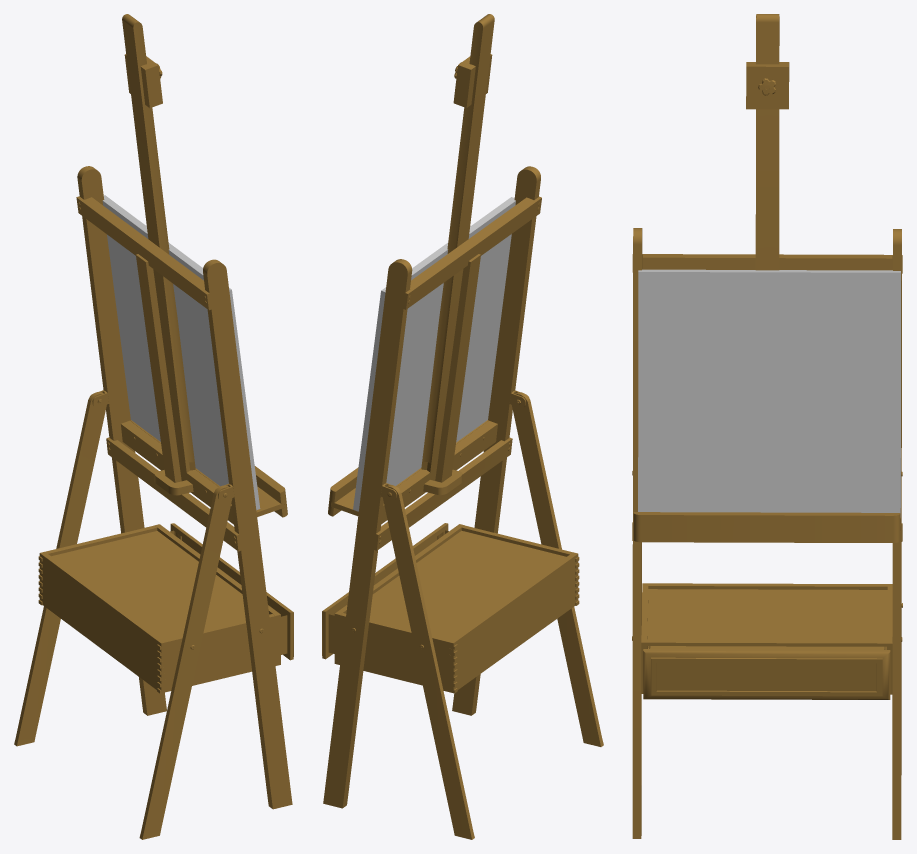
The model's file is Easel.fbx.
3 views of the same model, side by side, from view 1: azimuth 30°, elevation 25°; view 2: azimuth 150°, elevation 25°; view 3: azimuth 270°, elevation 25° (orthographic). The views are drawn at different scales.
Visible parts, largest first — view 1: stand_Cylinder_001, board_Cube_001; view 2: stand_Cylinder_001, board_Cube_001; view 3: board_Cube_001, stand_Cylinder_001.
Boxes of the visible parts, bbox=[...] form: stand_Cylinder_001: bbox=[14, 14, 293, 839]; board_Cube_001: bbox=[102, 195, 260, 510]; stand_Cylinder_001: bbox=[322, 14, 603, 839]; board_Cube_001: bbox=[353, 197, 515, 511]; board_Cube_001: bbox=[638, 269, 900, 517]; stand_Cylinder_001: bbox=[632, 14, 902, 839].
Size of the model in its own units: 32.91 by 149 by 47.04.
